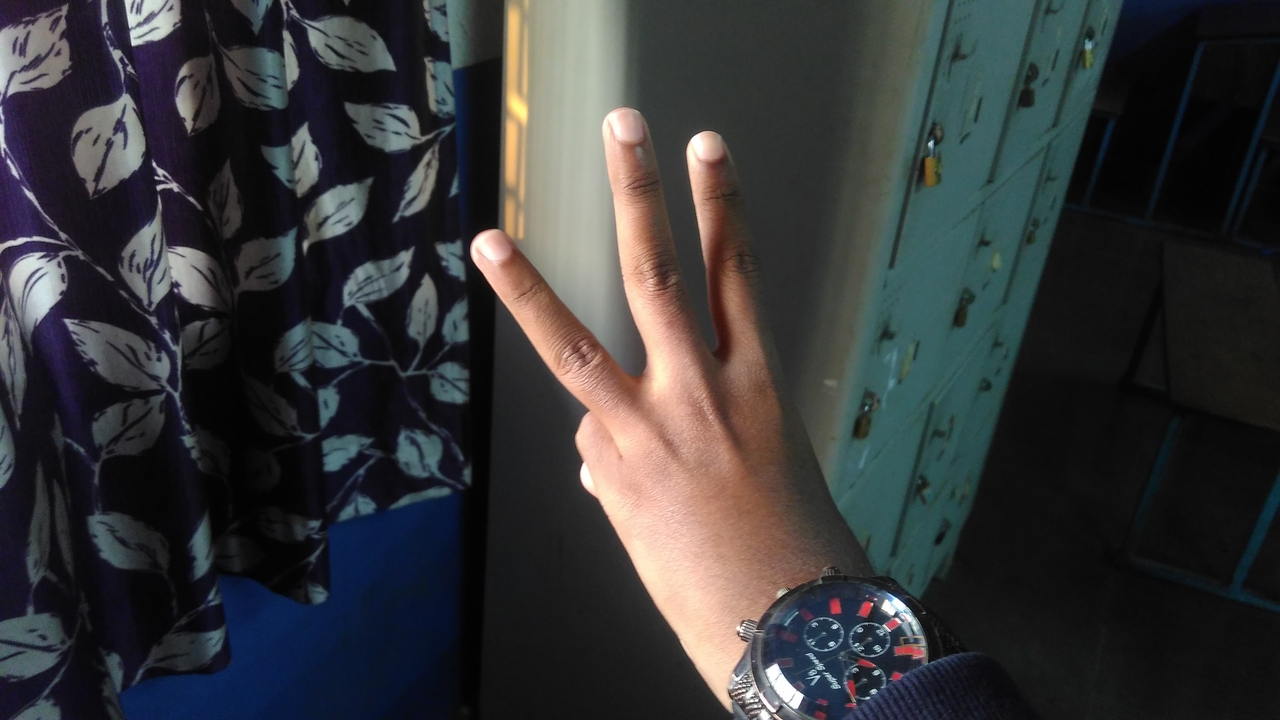fingertip: (592, 104, 654, 160), (460, 220, 514, 280), (684, 130, 738, 178)
